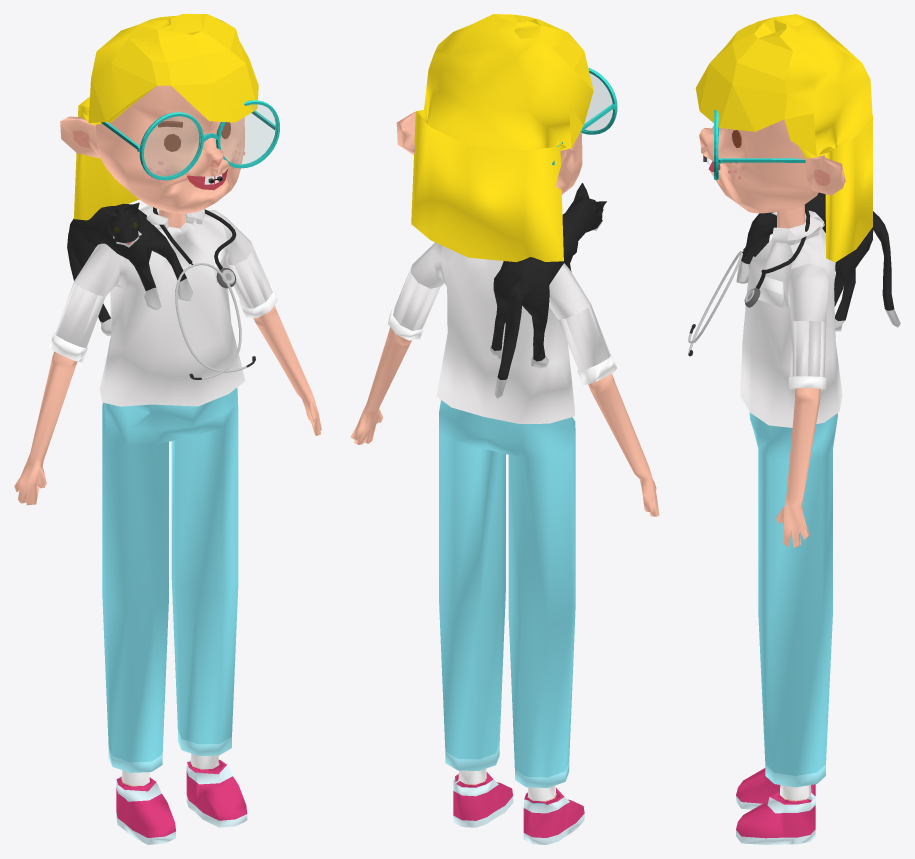
File: Zoe.glb
The picture shows the model from 3 angles, left to right: view 1: azimuth 30°, elevation 25°; view 2: azimuth 150°, elevation 25°; view 3: azimuth 270°, elevation 25°; orthographic projection.
Visible parts, largest first — view 1: CatMesh2_lambert1_0, CatMesh2_lambert1_0.001; view 2: CatMesh2_lambert1_0, CatMesh2_lambert1_0.001; view 3: CatMesh2_lambert1_0, CatMesh2_lambert1_0.001.
Part boxes in pixels (left/top/right/bottom): CatMesh2_lambert1_0: left=14, top=14, right=321, bottom=844; CatMesh2_lambert1_0.001: left=67, top=202, right=192, bottom=335; CatMesh2_lambert1_0: left=350, top=14, right=659, bottom=844; CatMesh2_lambert1_0.001: left=490, top=183, right=606, bottom=398; CatMesh2_lambert1_0: left=688, top=14, right=872, bottom=844; CatMesh2_lambert1_0.001: left=736, top=192, right=900, bottom=331.
Size of the model in its own units: 1.55 by 3.93 by 0.9527.
Materials: 13 (2 with a texture image).
